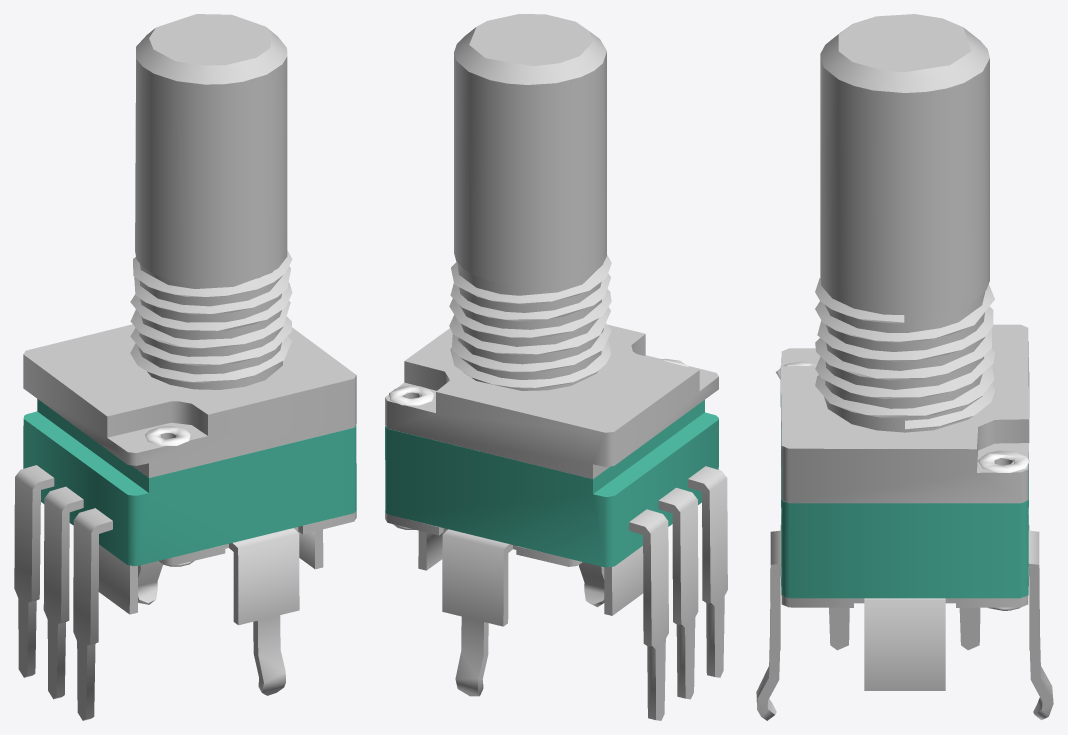
File: pot9_body.glb
3 renders of one model, left to right at view 1: azimuth 30°, elevation 25°; view 2: azimuth 150°, elevation 25°; view 3: azimuth 270°, elevation 25°, orthographic. The views are drawn at different scales.
Visible parts, largest first — view 1: Solid2, Solid1, Solid3; view 2: Solid2, Solid1, Solid3; view 3: Solid2, Solid1, Solid3.
Boxes of the visible parts, x1,y1,x2,y2 form: Solid2: (14,14,356,720); Solid1: (23,399,356,565); Solid3: (145,426,194,566); Solid2: (385,14,727,720); Solid1: (385,400,718,567); Solid3: (389,358,689,529); Solid2: (756,14,1053,720); Solid1: (780,391,1028,598); Solid3: (776,361,1029,610).
Bounding box in the file's own units: 0.0124 × 0.0291 × 0.0114.
